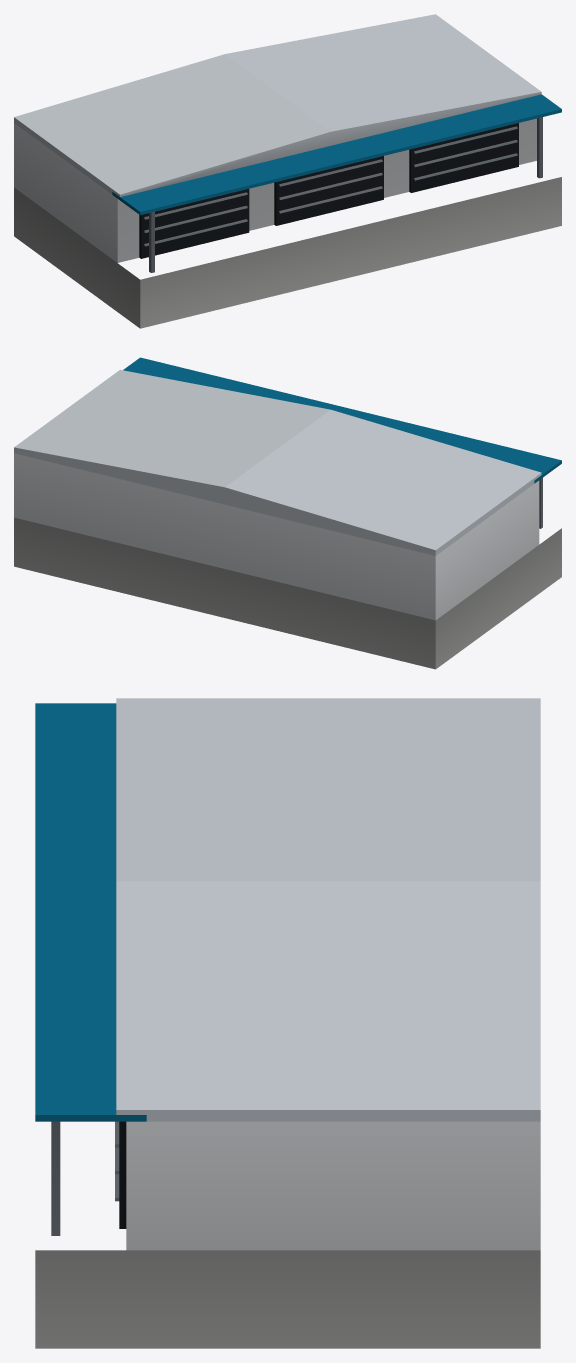
The model's file is paddock-support-unit.glb.
3 renders of one model, top to bottom at view 1: azimuth 30°, elevation 25°; view 2: azimuth 150°, elevation 25°; view 3: azimuth 270°, elevation 25°, orthographic. The views are drawn at different scales.
Parts seen in each view (by area): view 1: paddock-support-unit; view 2: paddock-support-unit; view 3: paddock-support-unit.
Boxes of the visible parts, <box> form: paddock-support-unit: <box>14,14,561,328</box>; paddock-support-unit: <box>14,357,561,669</box>; paddock-support-unit: <box>35,698,540,1348</box>.
Size of the model in its own units: 27 by 8 by 14.
